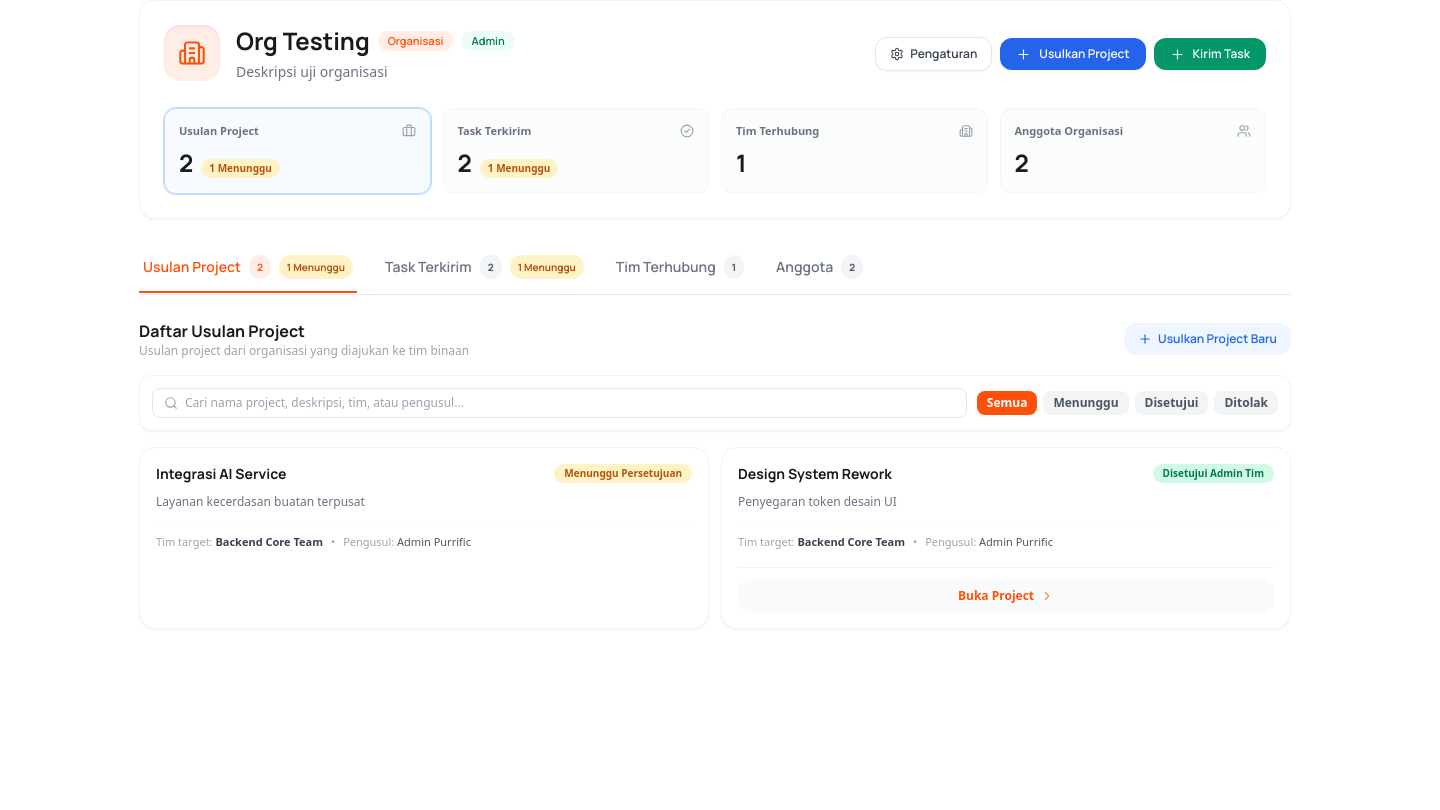
OrganizationPage › allows editing organization profile via EditOrganizationModal
expect the heading "Org Testing" is shown: met, box [236,25,370,57]
// Buka modal Pengaturan
Click the button "Pengaturan". click: coordinates (934, 54)
box: [875,37,992,71]
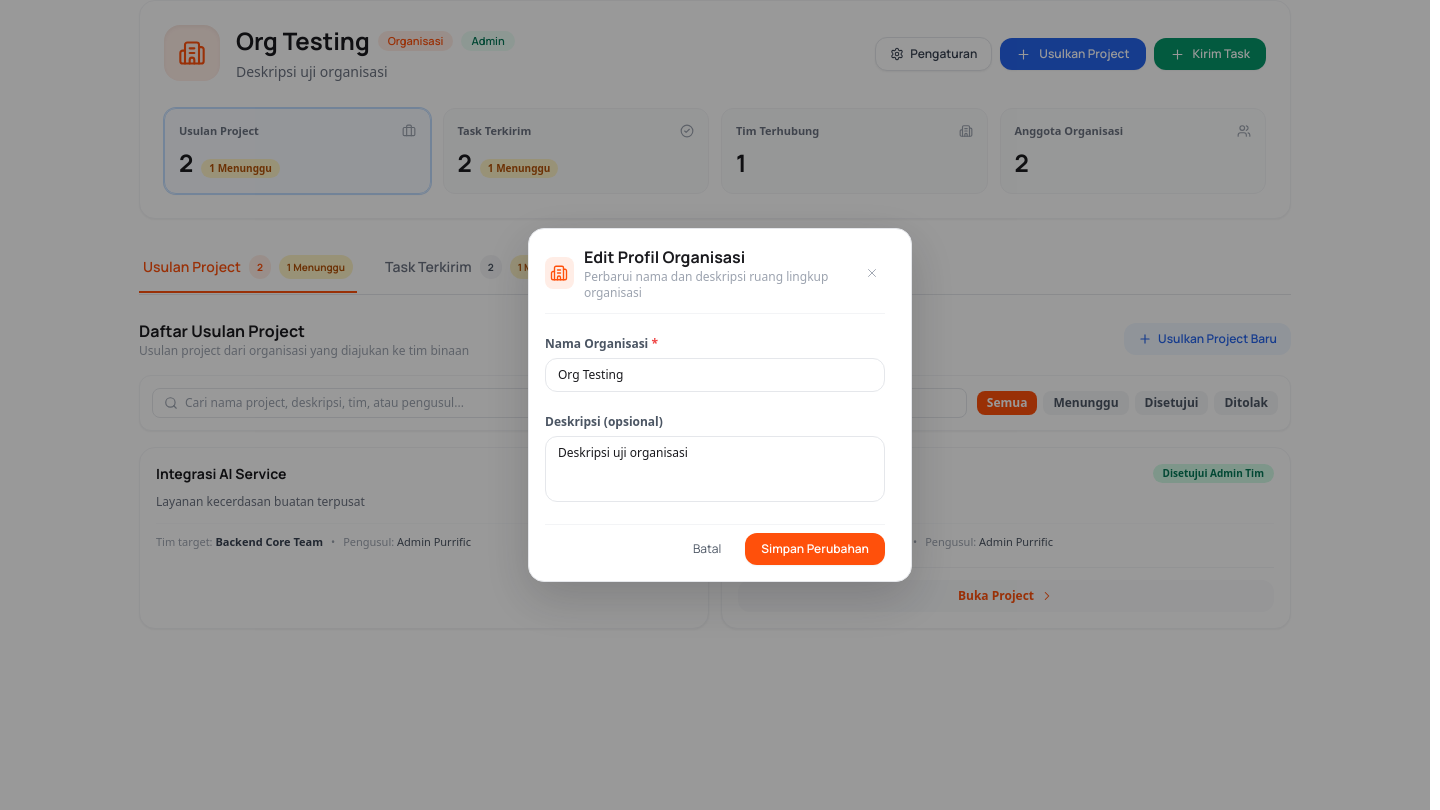
expect the heading "Edit Profil Organisasi" is shown: met, box [584,246,745,268]
// Ubah nama organisasi
Replace the text in the field labelled "Nama Organisasi *" with "Org Testing Updated". click: coordinates (715, 375)
box: [545,358,885,392]
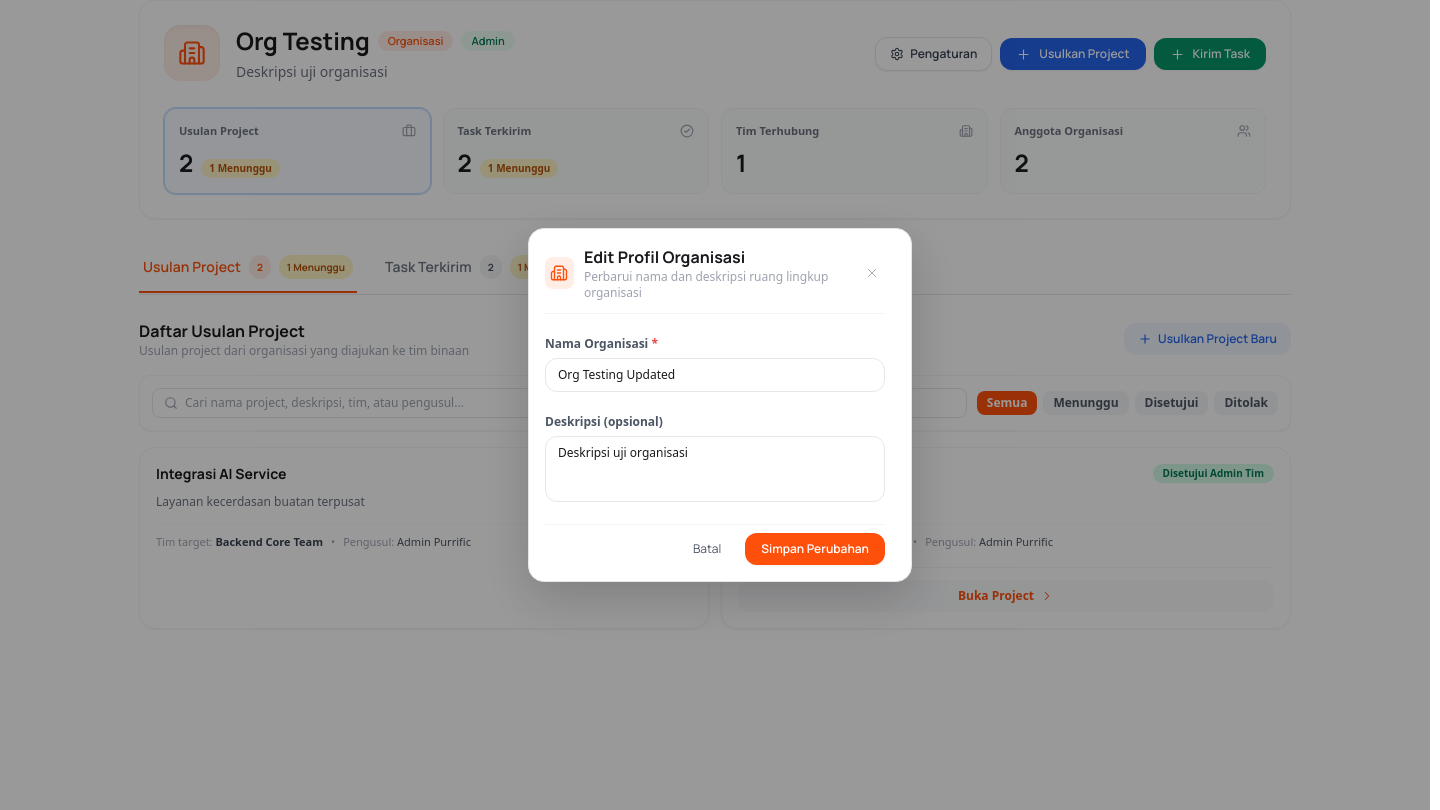
// Submit form
Click the button "Simpan Perubahan". click: coordinates (815, 549)
box: [745,533,885,565]
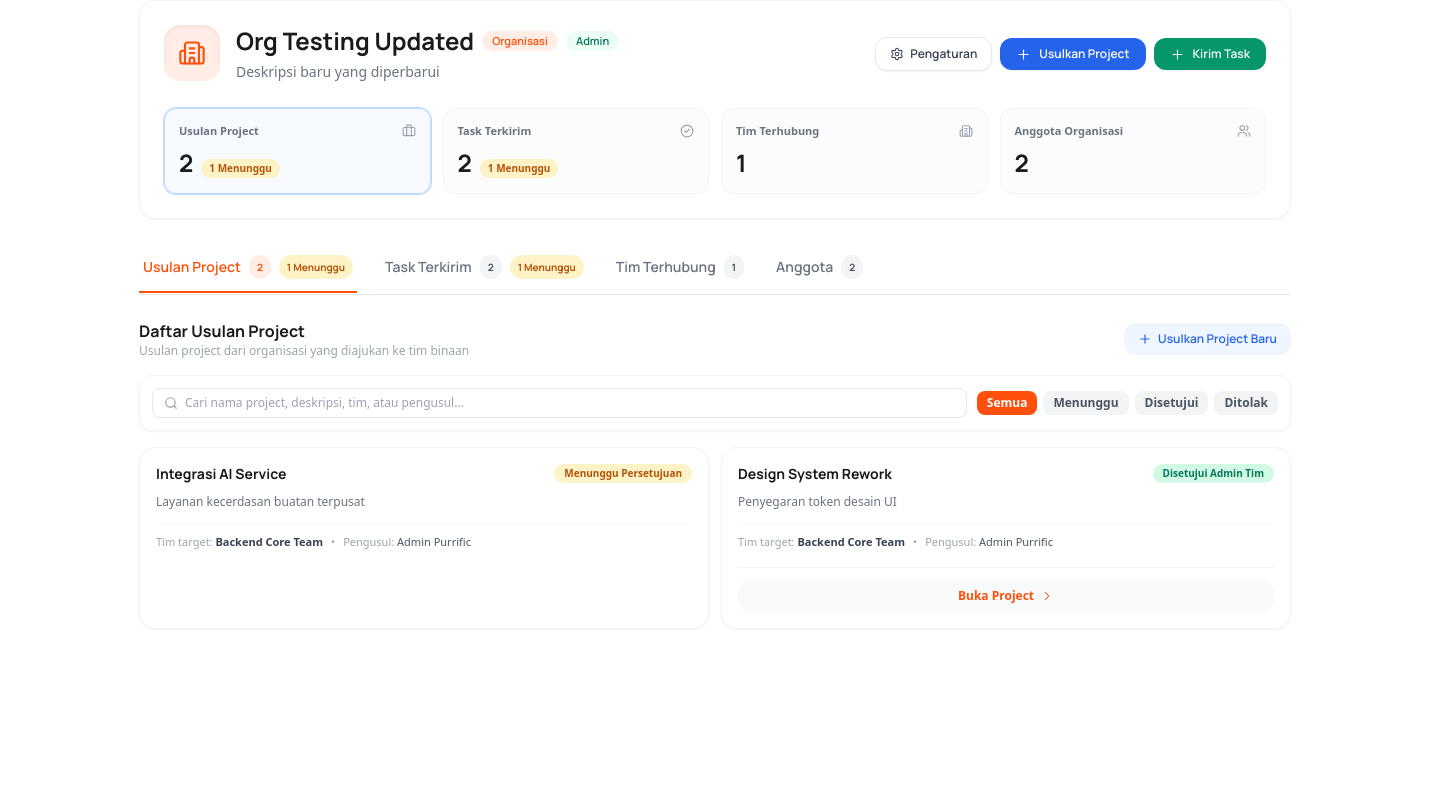
expect the heading "Org Testing Updated" is shown: met, box [236,25,474,57]
